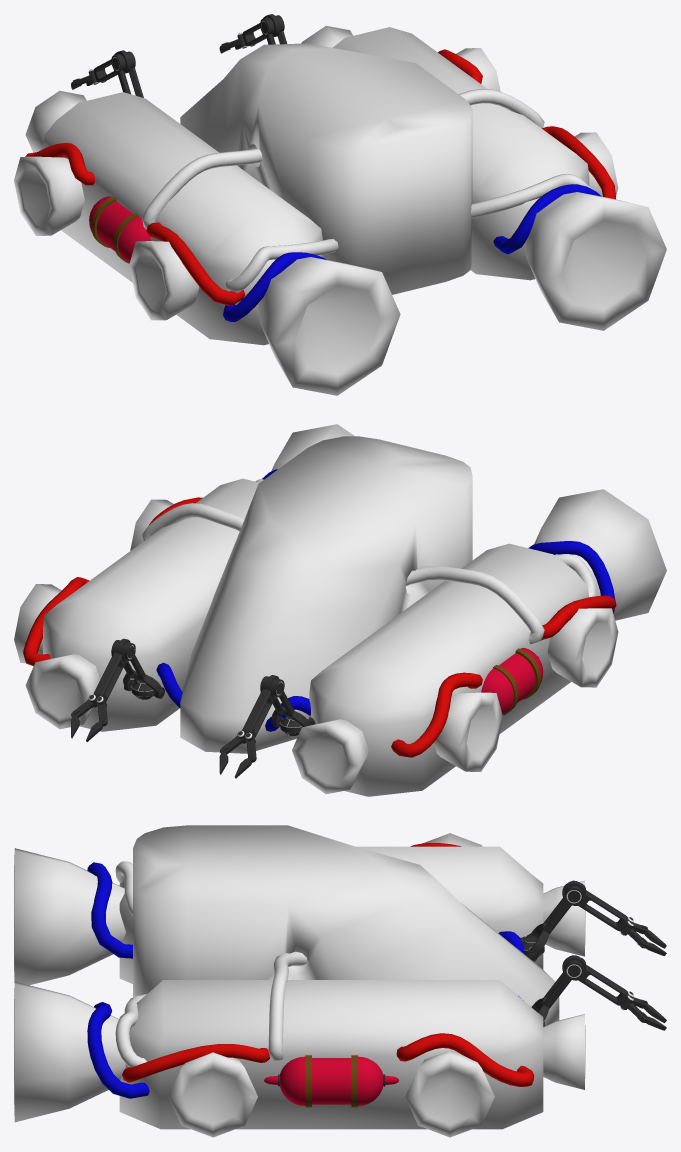
The model's file is repair ship.fbx.
The picture shows the model from 3 angles, top to bottom: view 1: azimuth 30°, elevation 25°; view 2: azimuth 150°, elevation 25°; view 3: azimuth 270°, elevation 25°; orthographic projection. The views are drawn at different scales.
Visible parts, largest first — view 1: Cube.011, Cube.002, Circle.015, Circle.022, Circle.020, Circle.021, NurbsPath.009, Sphere.004, NurbsPath.006, NurbsPath, NurbsPath.007, NurbsPath.002 (+8 smaller); view 2: Cube.002, Cube.011, Circle.022, Circle.019, Circle.021, Circle.020, Circle.018, NurbsPath.009, Sphere.004, NurbsPath.006, NurbsPath, NurbsPath.003 (+10 smaller); view 3: Cube.011, Cube.002, Circle.022, Circle.015, Circle.017, Circle.016, Sphere.003, NurbsPath, Circle.018, NurbsPath.001, Circle.019, NurbsPath.003 (+7 smaller).
Part boxes in pixels (x1,y1,x2,y2): Cube.011: [180, 43, 472, 294]; Cube.002: [43, 27, 589, 345]; Circle.015: [524, 192, 666, 330]; Circle.022: [257, 257, 400, 395]; Circle.020: [14, 156, 84, 235]; Circle.021: [129, 241, 199, 320]; NurbsPath.009: [25, 143, 245, 305]; Sphere.004: [89, 196, 150, 263]; NurbsPath.006: [142, 148, 262, 229]; NurbsPath: [438, 49, 615, 199]; NurbsPath.007: [225, 239, 338, 292]; NurbsPath.002: [471, 174, 590, 218]; Cube.002: [43, 478, 588, 796]; Cube.011: [180, 436, 472, 753]; Circle.022: [534, 489, 666, 620]; Circle.019: [292, 719, 368, 794]; Circle.021: [547, 608, 618, 687]; Circle.020: [434, 692, 502, 771]; Circle.018: [25, 654, 100, 729]; NurbsPath.009: [391, 595, 616, 757]; Sphere.004: [481, 647, 543, 714]; NurbsPath.006: [405, 566, 544, 644]; NurbsPath: [23, 497, 202, 666]; NurbsPath.003: [142, 503, 244, 541]; Cube.011: [133, 825, 559, 1026]; Cube.002: [119, 846, 543, 1129]; Circle.022: [14, 848, 125, 985]; Circle.015: [14, 982, 125, 1122]; Circle.017: [405, 1050, 494, 1137]; Circle.016: [168, 1052, 257, 1137]; Sphere.003: [264, 1055, 398, 1107]; NurbsPath: [122, 1033, 534, 1086]; Circle.018: [543, 1014, 585, 1089]; NurbsPath.001: [87, 1002, 149, 1098]; Circle.019: [543, 880, 585, 956]; NurbsPath.003: [268, 951, 306, 1060].
Bounding box in the file's own units: 4.02 × 1.58 × 4.96.
